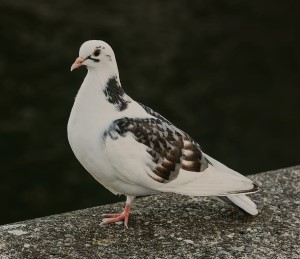pigeon: (64, 38, 264, 227)
